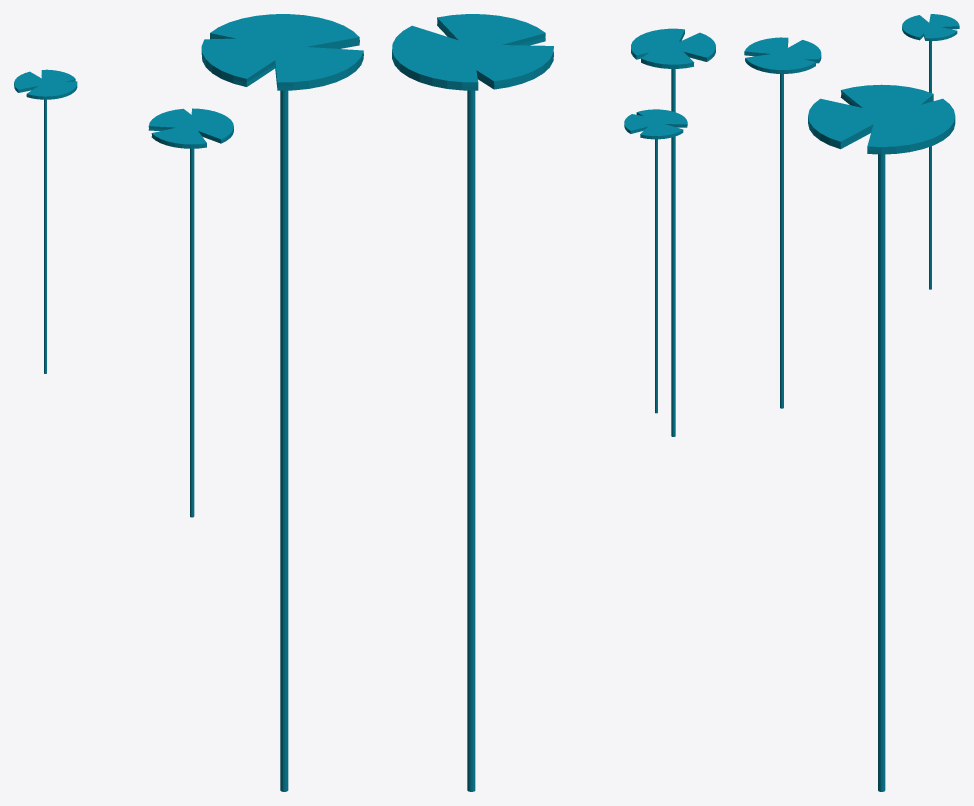
Rendered from lilyGroup2.fbx.
3 views of the same model, side by side, from view 1: azimuth 30°, elevation 25°; view 2: azimuth 150°, elevation 25°; view 3: azimuth 270°, elevation 25° (orthographic). The views are drawn at different scales.
Visible parts, largest first — view 1: LilyPad1 (2), LilyPad1 (3), LilyPad1 (4); view 2: LilyPad1 (2), LilyPad1 (3), LilyPad1 (4); view 3: LilyPad1 (2), LilyPad1 (3), LilyPad1 (4).
Part boxes in pixels (box(x1,y1,x2,y2)): LilyPad1 (2): box(201, 14, 363, 791); LilyPad1 (3): box(148, 108, 233, 517); LilyPad1 (4): box(14, 69, 77, 373); LilyPad1 (2): box(392, 14, 553, 791); LilyPad1 (3): box(631, 28, 715, 436); LilyPad1 (4): box(624, 109, 687, 413); LilyPad1 (2): box(808, 84, 955, 791); LilyPad1 (3): box(744, 37, 821, 408); LilyPad1 (4): box(902, 14, 959, 289).
Bounding box in the file's own units: 4.38 × 10.09 × 2.92.
